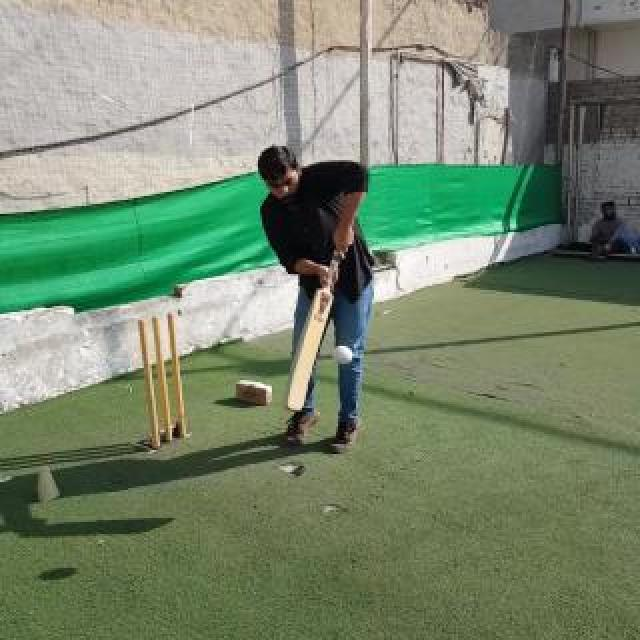ball: (334, 345, 354, 365)
bat: (285, 251, 341, 411)
